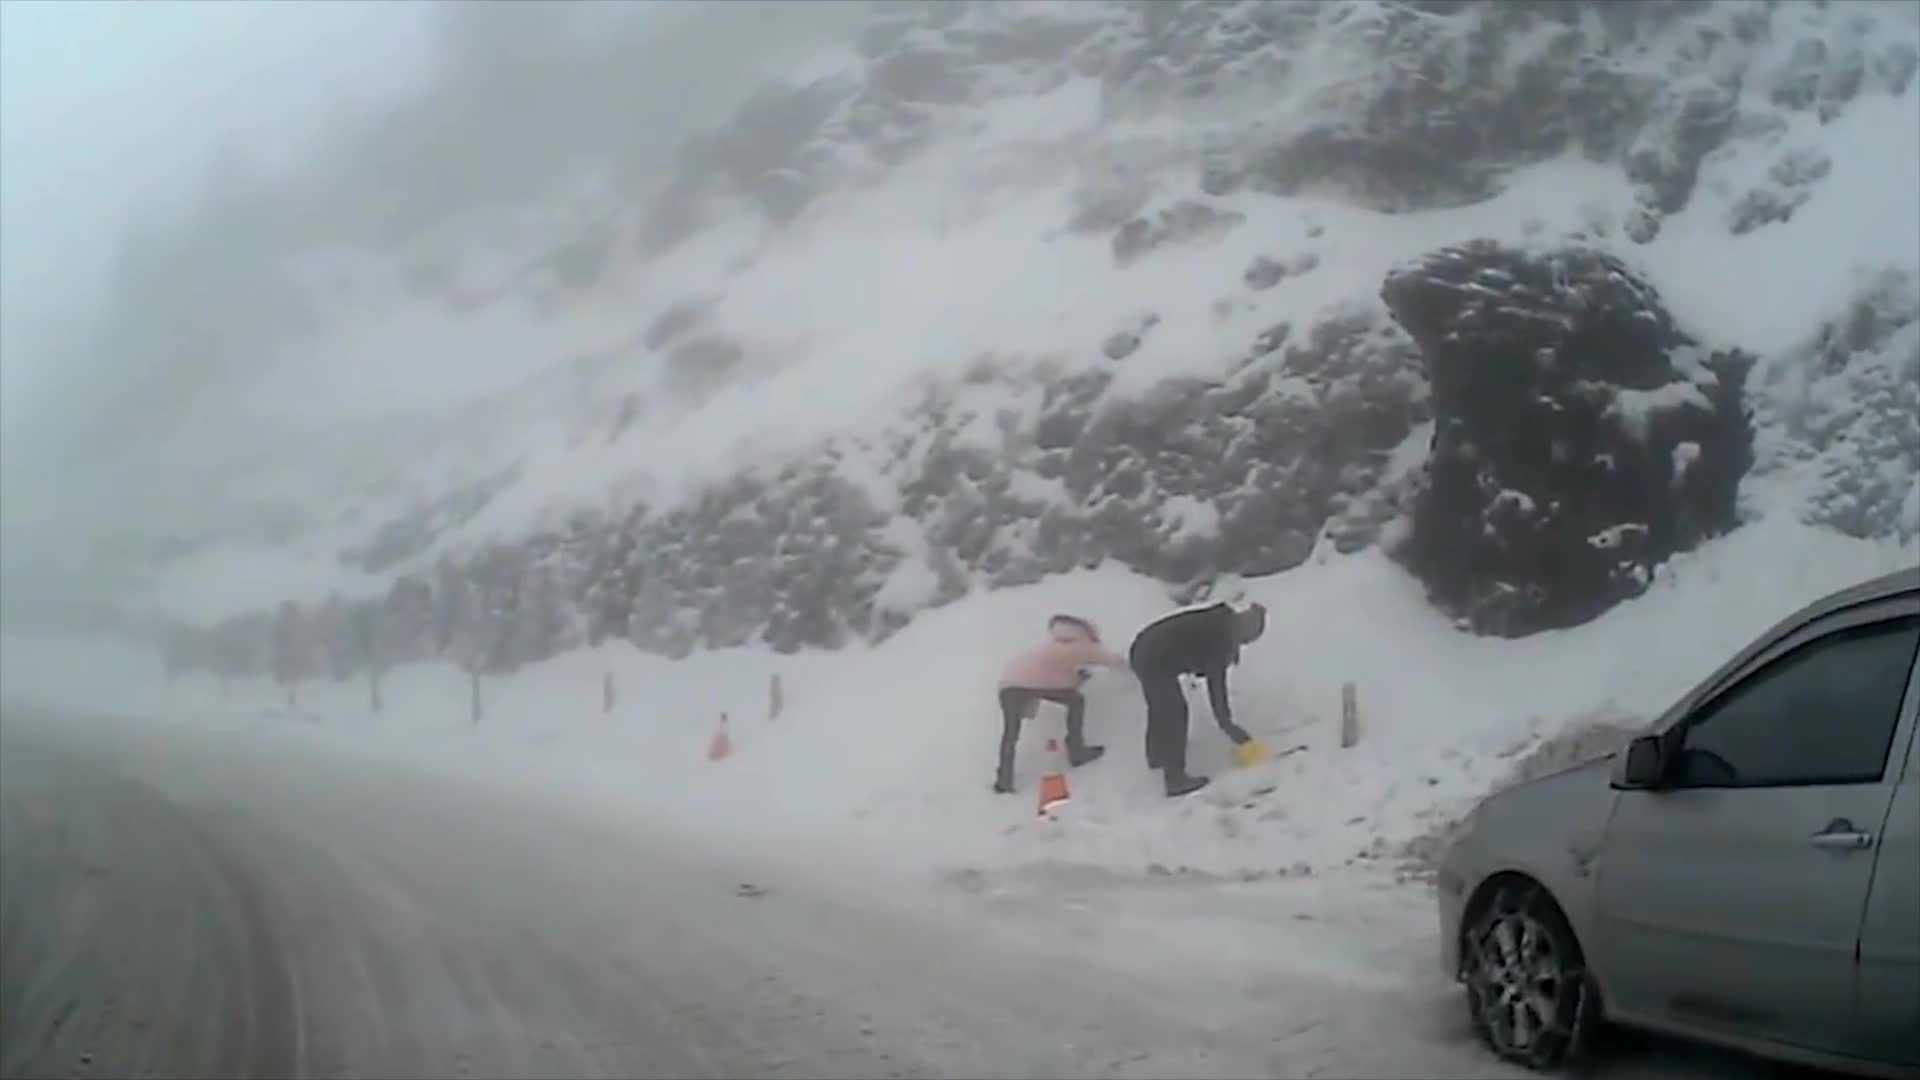pedestrian: (1130, 595, 1264, 795), (988, 613, 1134, 791)
vehicle: (1436, 561, 1920, 1080)
